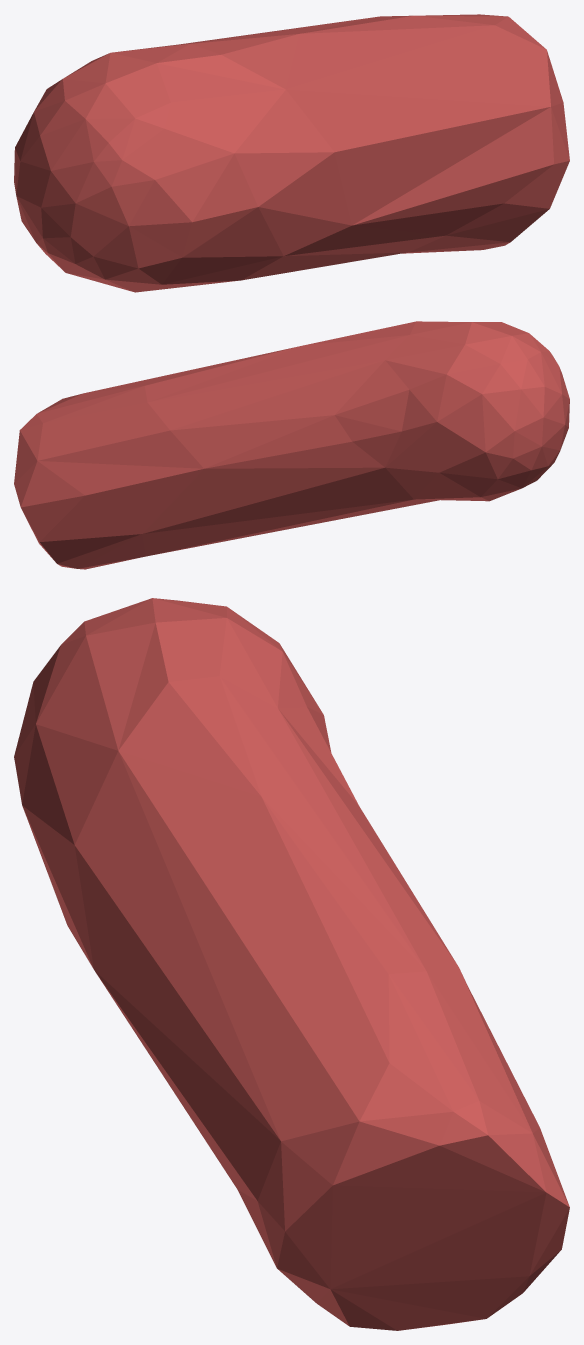
3 views of the same model, one above another, from view 1: azimuth 30°, elevation 25°; view 2: azimuth 150°, elevation 25°; view 3: azimuth 270°, elevation 25° (orthographic). The views are drawn at different scales.
Visible parts, largest first — view 1: FJ2737; view 2: FJ2737; view 3: FJ2737.
Boxes of the visible parts, <box> form: FJ2737: <box>14,14,569,292</box>; FJ2737: <box>14,321,569,569</box>; FJ2737: <box>14,598,569,1330</box>.
Size of the model in its own units: 11.02 by 6.12 by 6.87.
